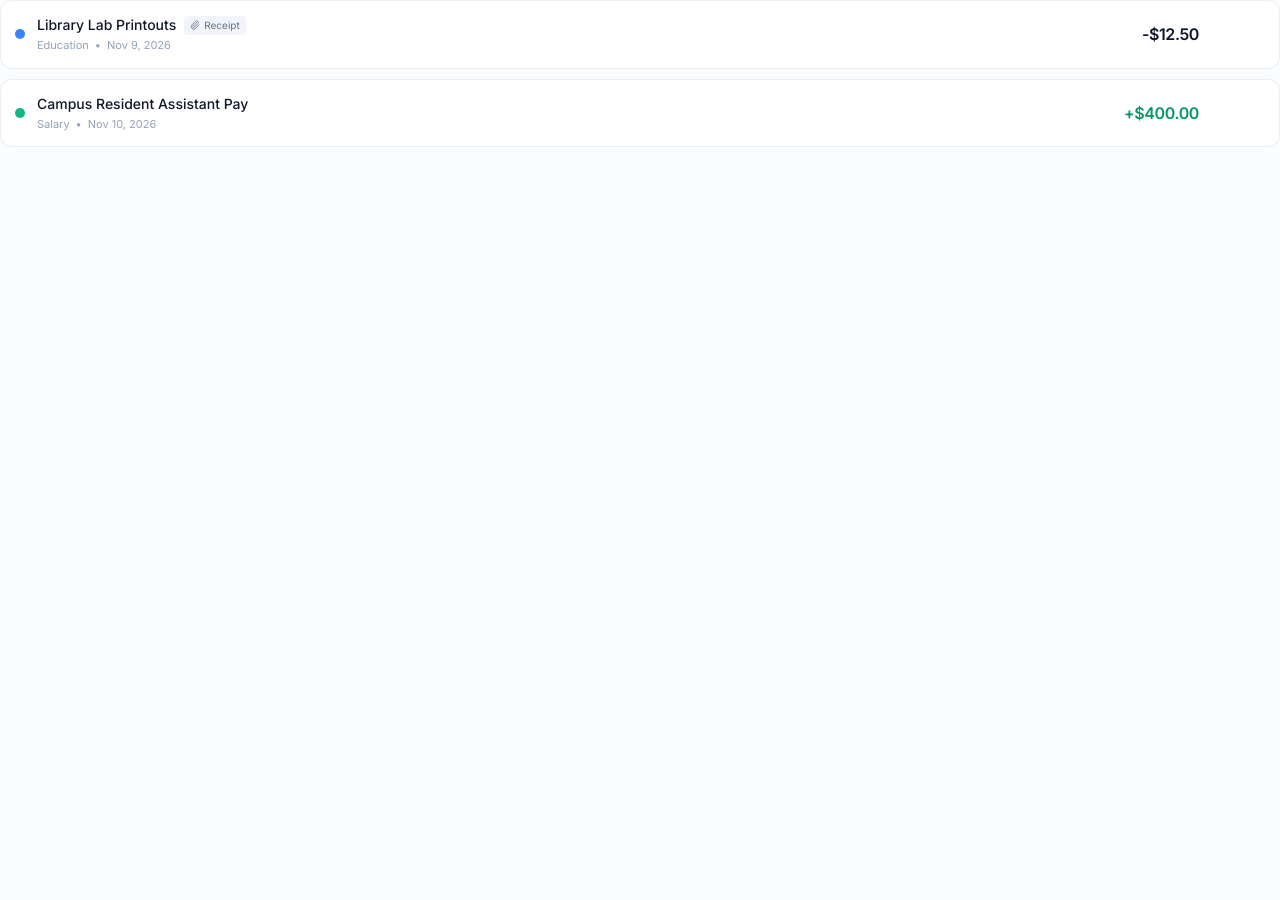
it: TransactionList Component › opens receipt modal when receipt badge is clicked
Click the button "Receipt" at (215, 25), box [184,16,246,34]
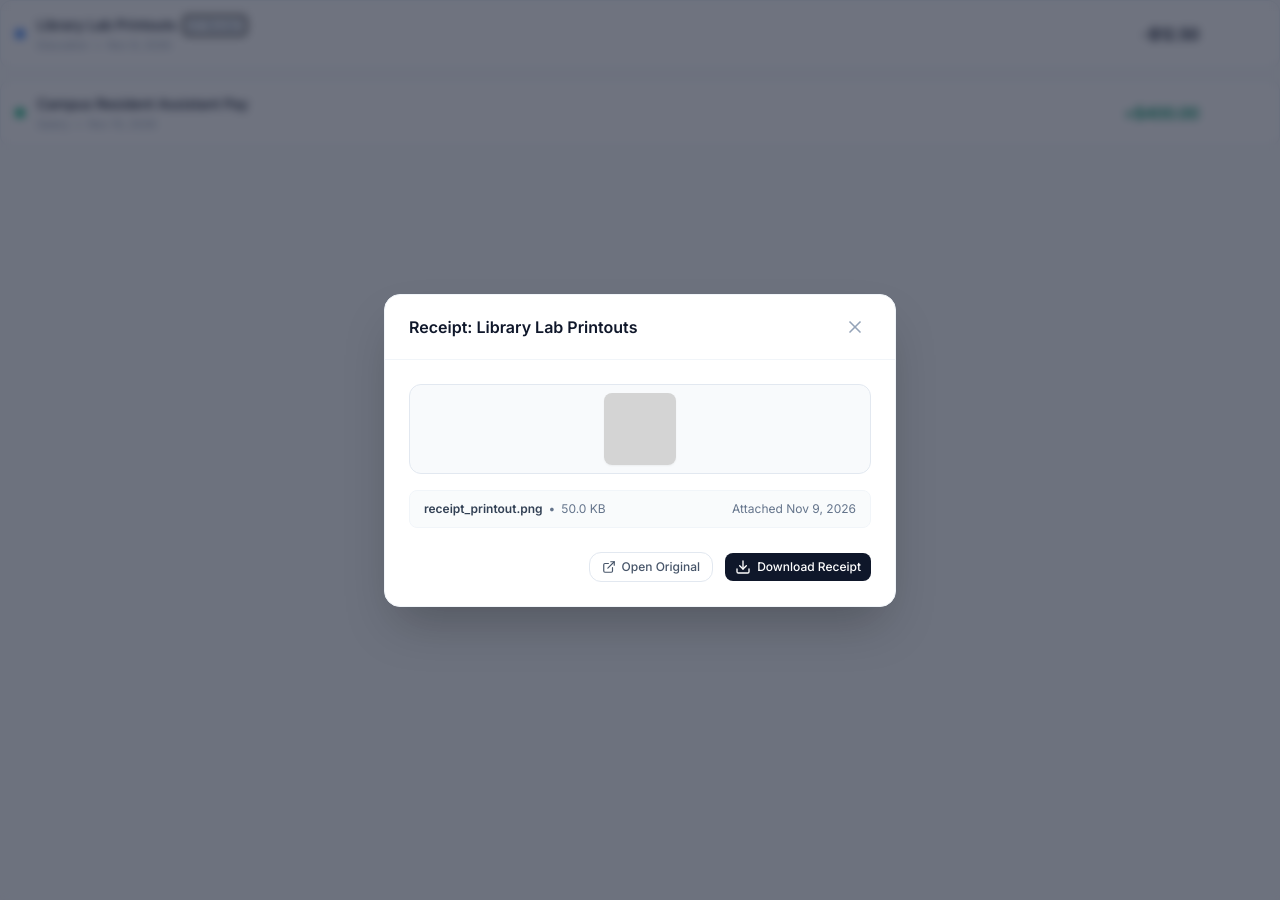
Result: the heading "Receipt: Library Lab Printouts" is shown at [409,314,637,338]
Result: the button "Download Receipt" is shown at [725,552,871,580]
